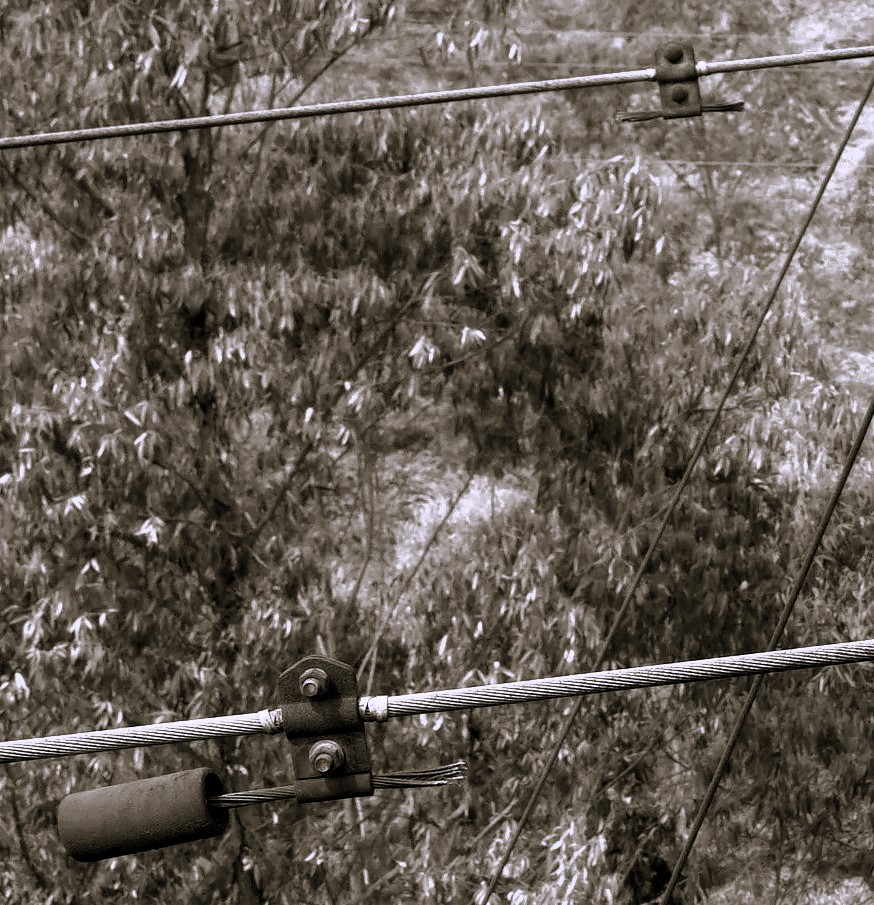Damage of shockproof hammer: (52, 644, 481, 873), (605, 26, 764, 132)
